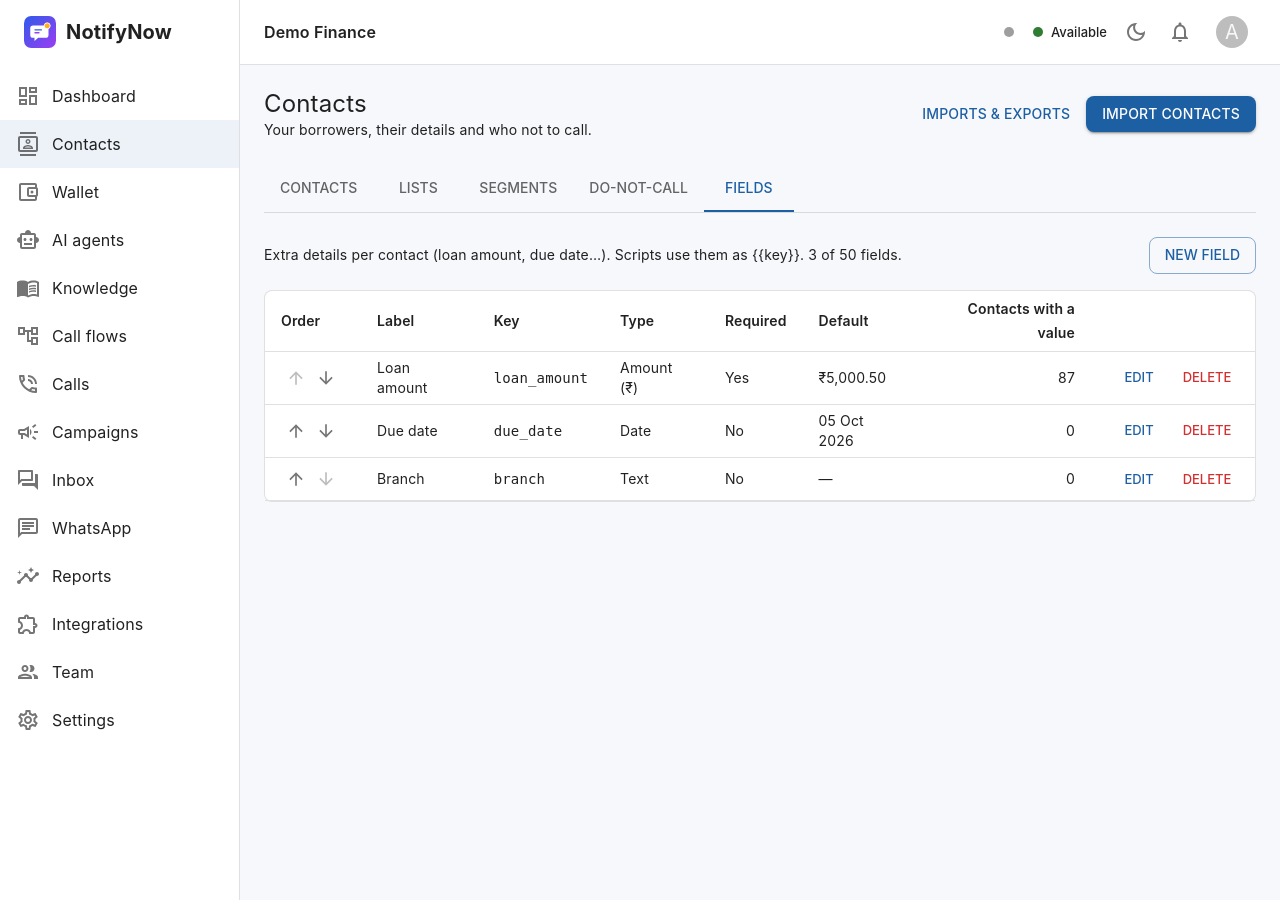
Test case: Fields tab › deletes with the usage count in the warning
Click the button "Delete" in the row of "loan_amount". click: (1207, 378)
box: [1175,362,1239,393]
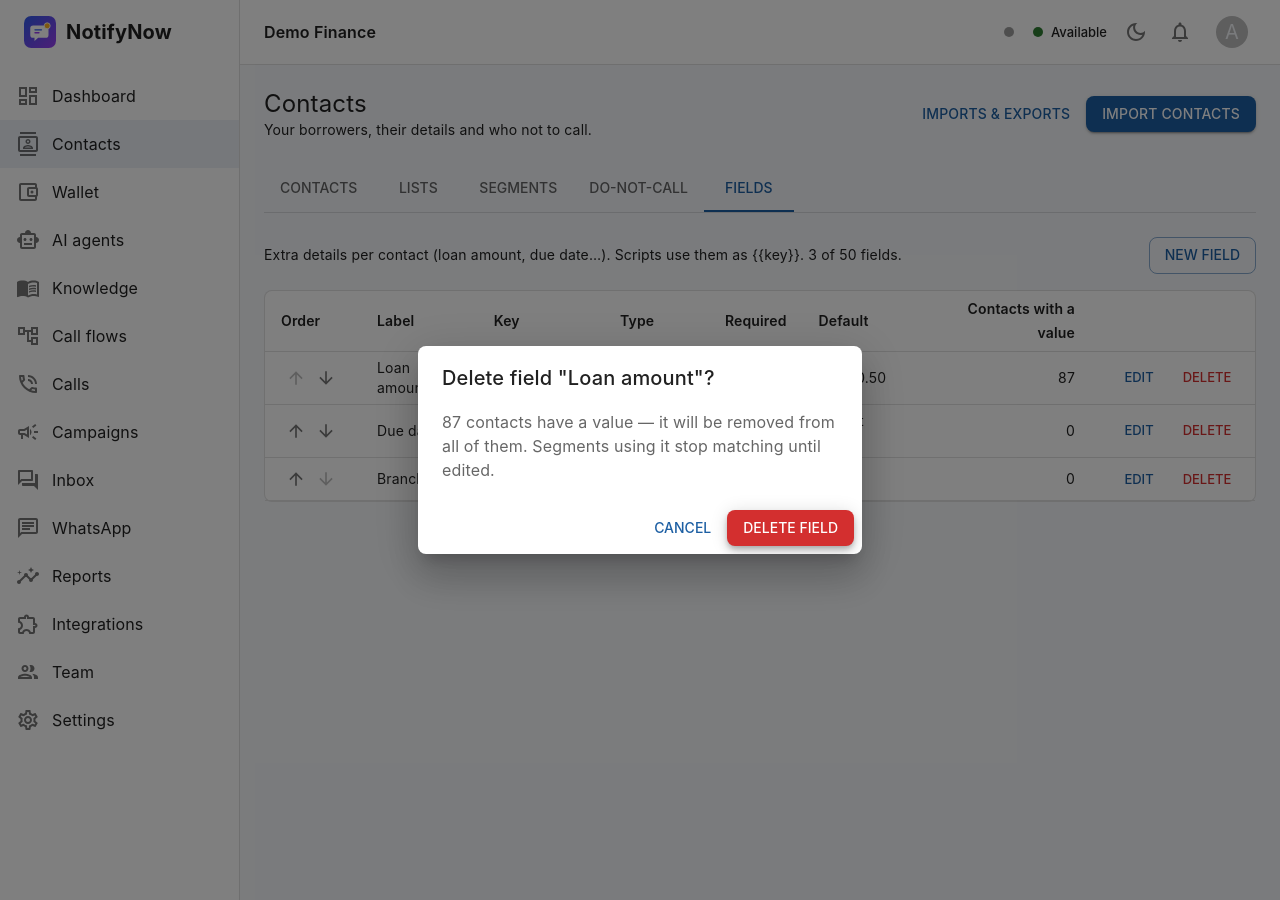
expect the text "87 contacts have a value" is shown: met, box [442,412,835,480]
Click the button "Delete field". click: (791, 528)
box: [727,510,854,546]
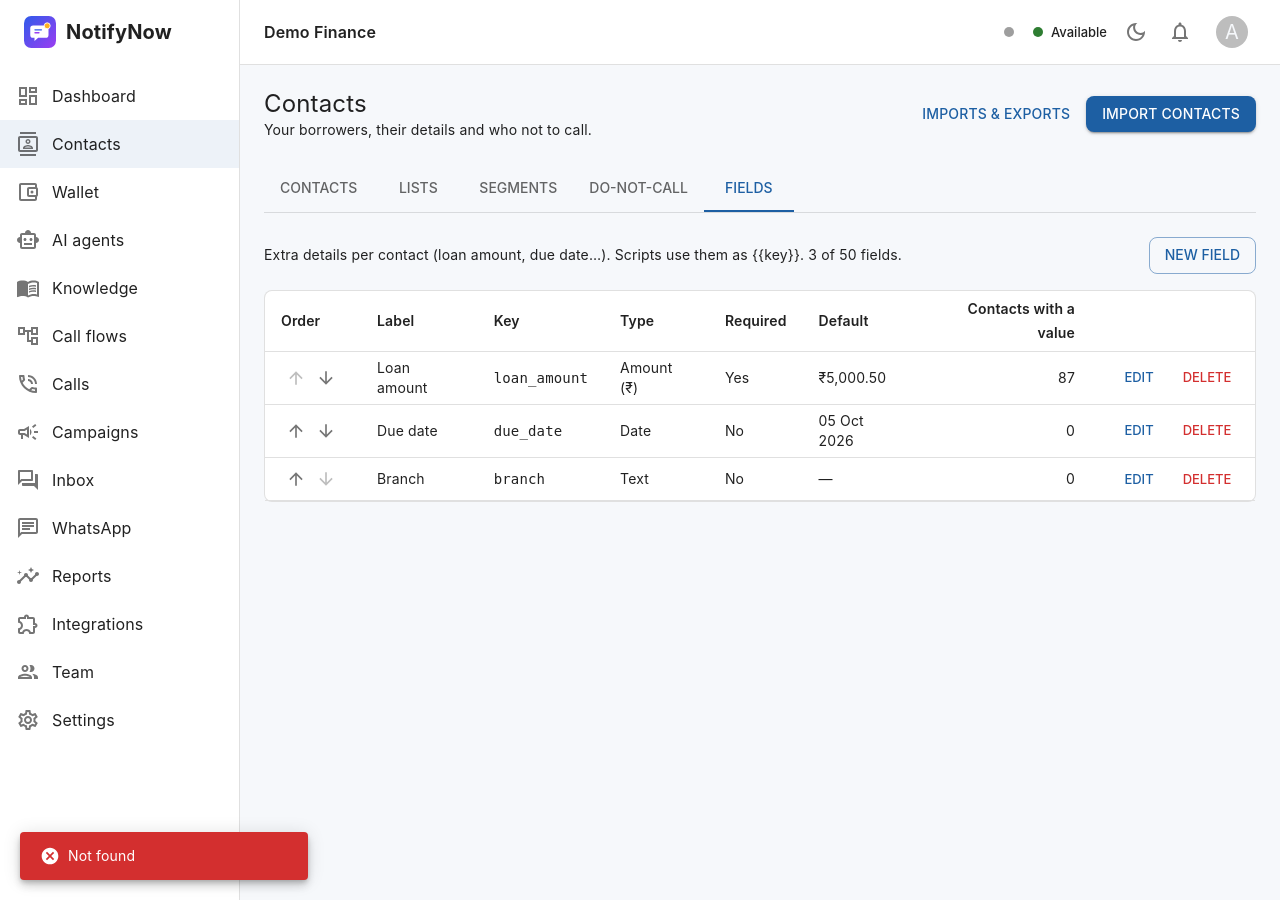
expect the text "Not found" is shown: met, box [40,846,135,866]
expect the dialog is gone: met
Click the button "Delete" in the row of "Text". click: (1207, 479)
box: [1175,464,1239,494]
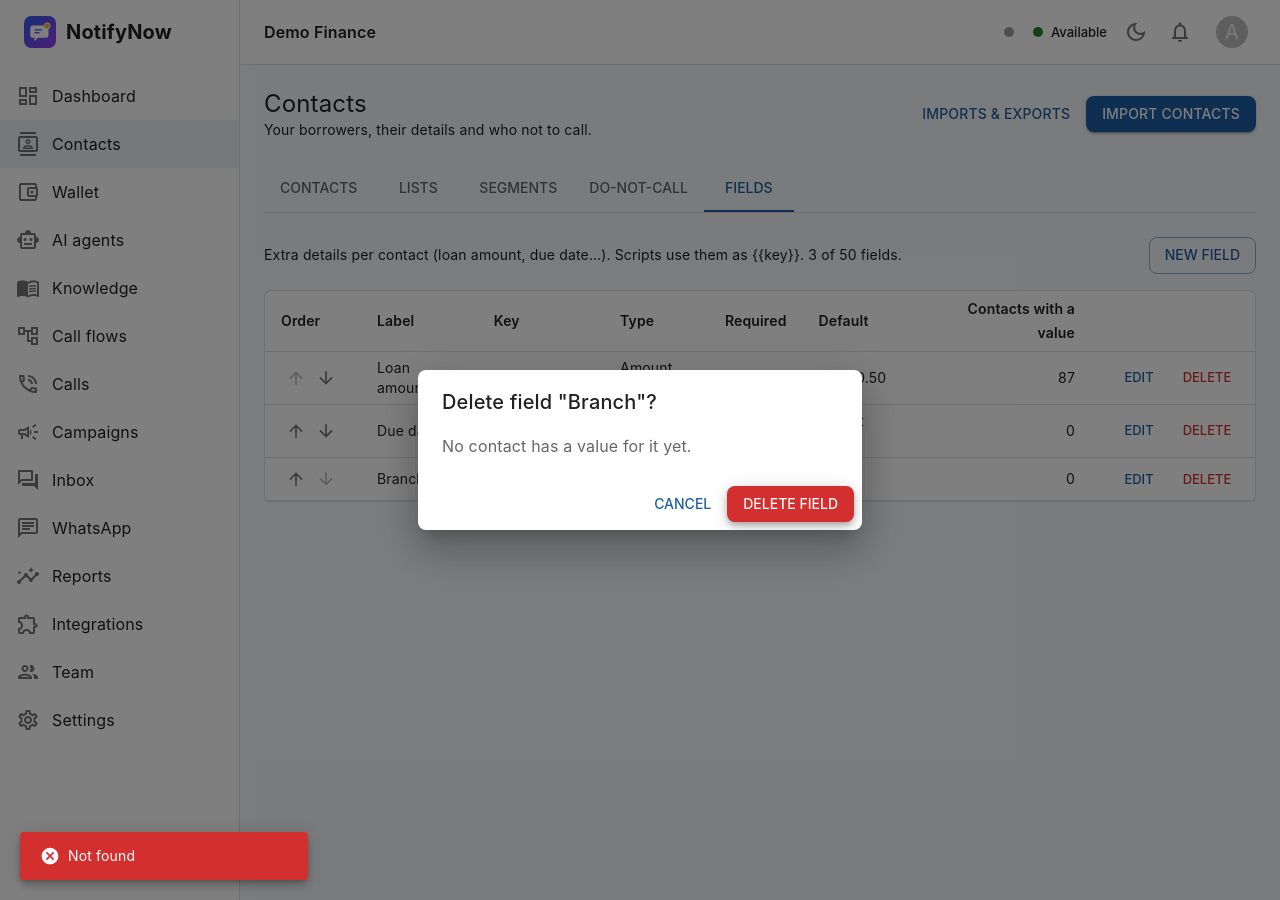
expect the text "No contact has a value for it yet." is shown: met, box [442,436,692,456]
Click the button "Delete field". click: (791, 504)
box: [727,486,854,522]
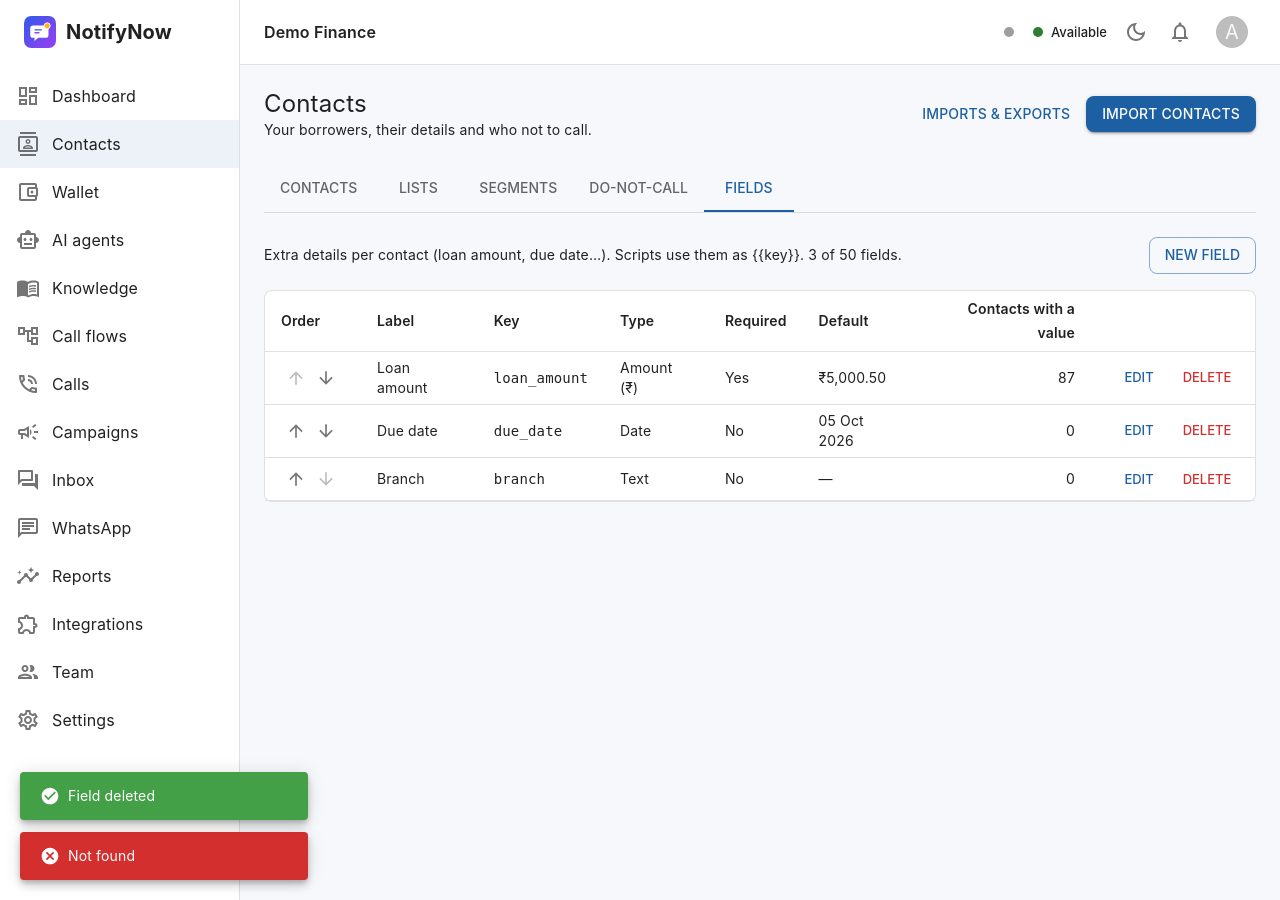
expect the text "Field deleted" is shown: met, box [40,786,155,806]
